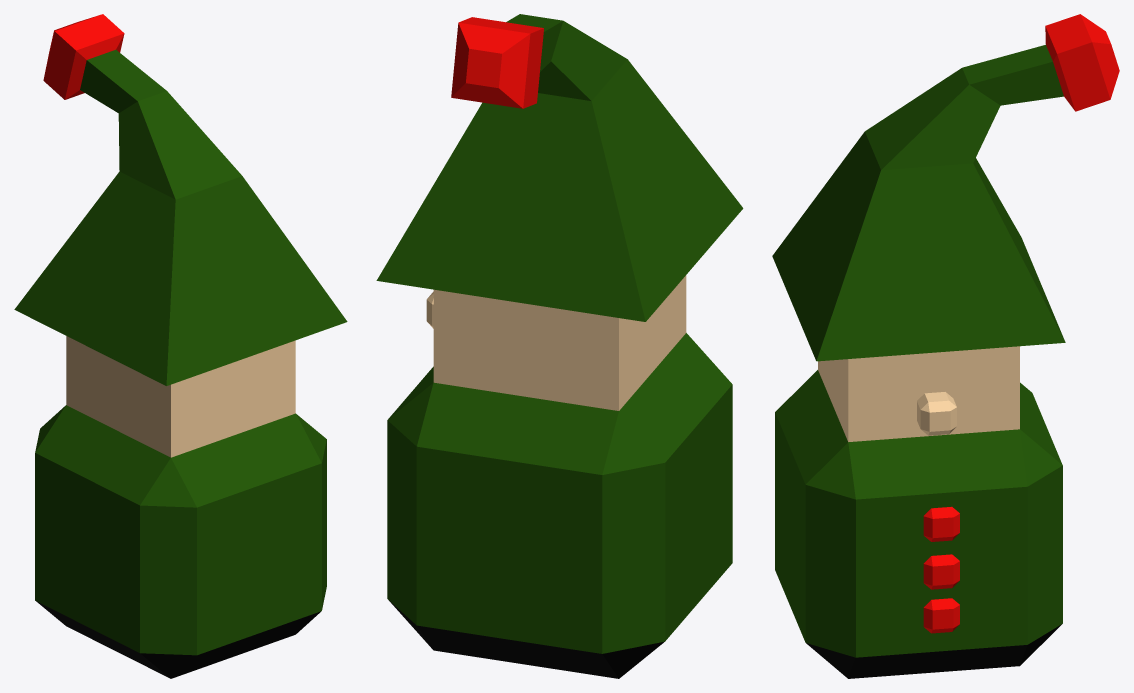
Rendered from christmax_elf.fbx.
3 views of the same model, side by side, from view 1: azimuth 30°, elevation 25°; view 2: azimuth 150°, elevation 25°; view 3: azimuth 270°, elevation 25° (orthographic). The views are drawn at different scales.
Parts seen in each view (by area): view 1: Nain; view 2: Nain; view 3: Nain.
Part boxes in pixels (x1,y1,x2,y2): Nain: (14,14,347,678); Nain: (376,14,743,678); Nain: (772,14,1119,678).
Size of the model in its own units: 0.8077 by 1.81 by 0.9564.
Materials: 1 (1 with a texture image).
